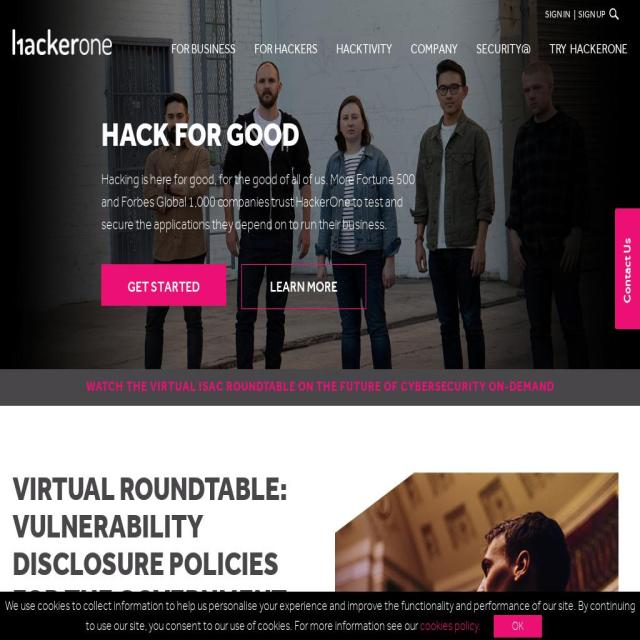button: (241, 264, 367, 310), (101, 264, 227, 307), (550, 42, 628, 56), (494, 615, 542, 637), (336, 42, 392, 56), (615, 276, 640, 296)
heading: (12, 472, 314, 622), (101, 118, 539, 157)
image: (0, 0, 640, 369), (335, 472, 619, 640), (12, 29, 112, 55)
link: (86, 374, 554, 400), (420, 618, 481, 634), (620, 270, 635, 303), (578, 8, 606, 20), (545, 8, 572, 20)
text: (4, 598, 636, 634), (101, 168, 427, 237), (12, 622, 314, 640), (162, 26, 245, 64), (245, 26, 327, 64), (467, 26, 540, 64), (401, 26, 467, 64), (571, 8, 579, 20)
